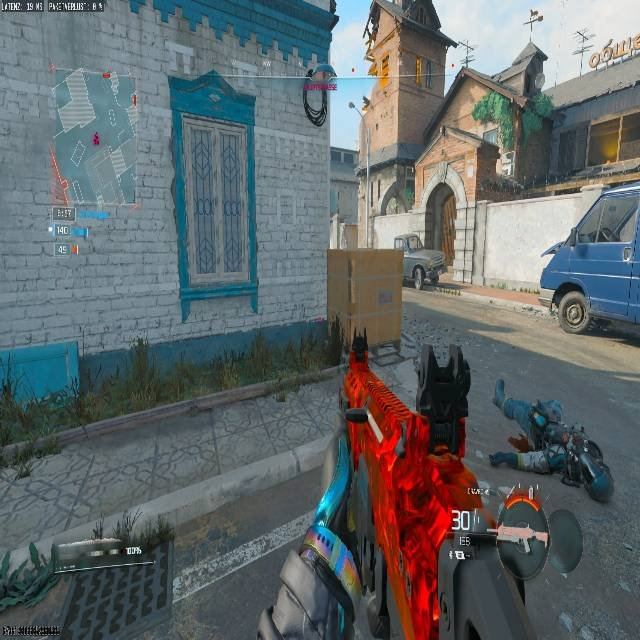head: (529, 400, 562, 436)
player: (491, 388, 612, 502)
